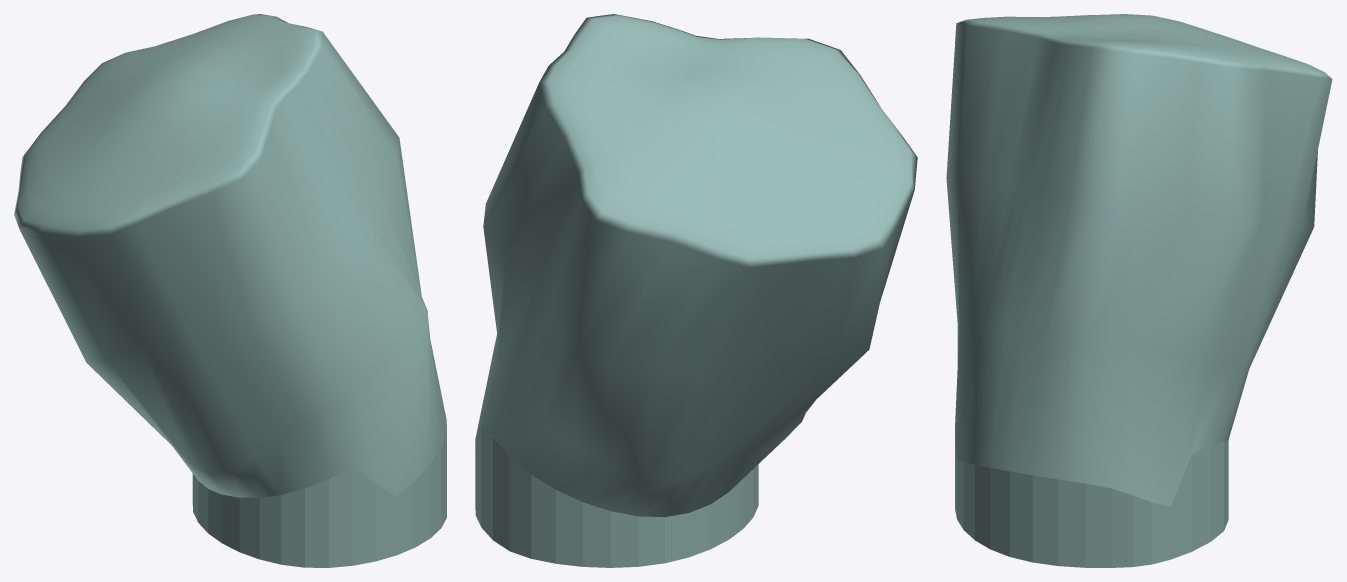
File: SM_Island_002.fbx
3 views of the same model, side by side, from view 1: azimuth 30°, elevation 25°; view 2: azimuth 150°, elevation 25°; view 3: azimuth 270°, elevation 25° (orthographic). The views are drawn at different scales.
Parts seen in each view (by area): view 1: SM_Island_002; view 2: SM_Island_002; view 3: SM_Island_002.
Boxes of the visible parts, bbox=[...] form: SM_Island_002: bbox=[14, 14, 446, 567]; SM_Island_002: bbox=[475, 14, 917, 567]; SM_Island_002: bbox=[946, 14, 1332, 567].
Size of the model in its own units: 2677 by 3101 by 2300.
